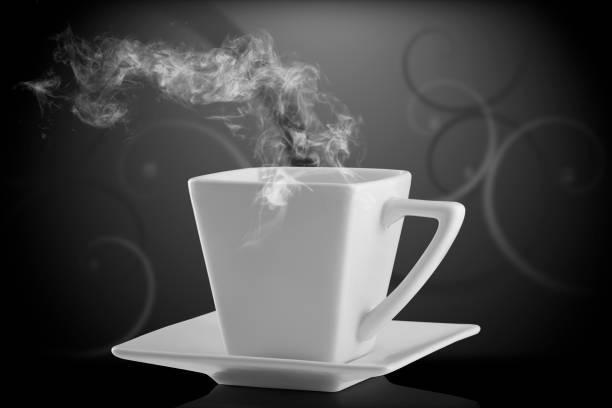cup-handle: (187, 162, 466, 364)
